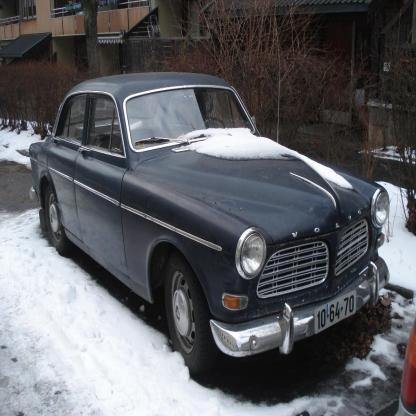Car: (28, 72, 395, 374)
